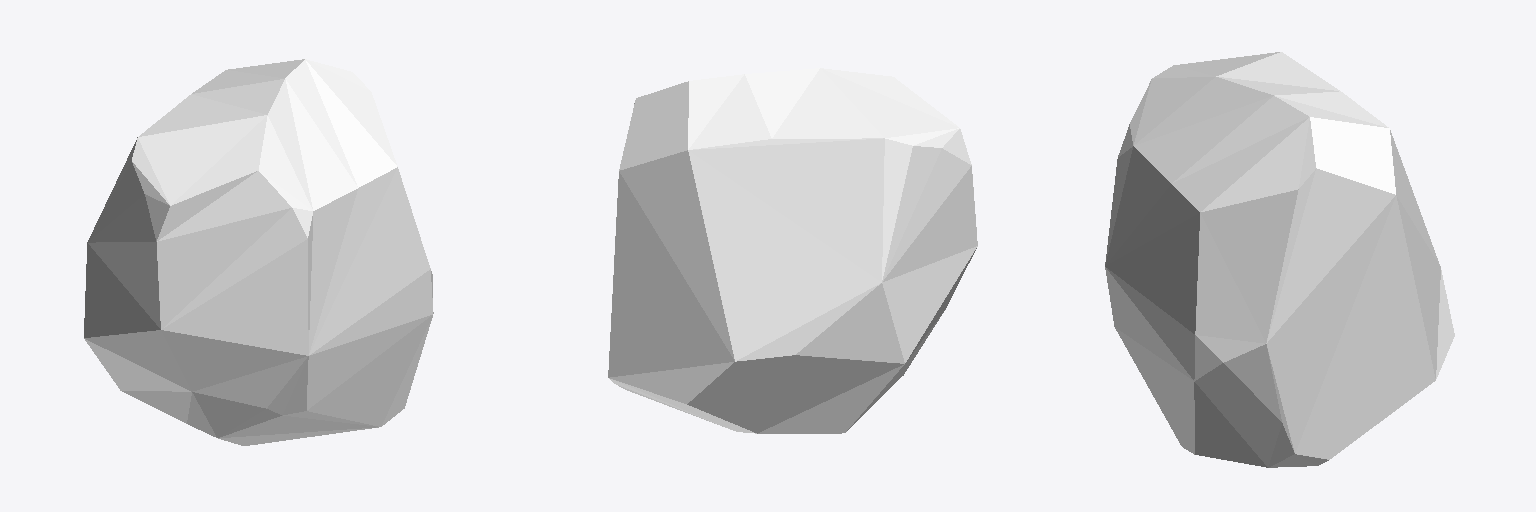
Rendered from rock_large_100.obj.
The picture shows the model from 3 angles: view 1: azimuth 30°, elevation 25°; view 2: azimuth 150°, elevation 25°; view 3: azimuth 270°, elevation 25°; orthographic projection.
Visible parts, largest first — view 1: RetopoGroup1; view 2: RetopoGroup1; view 3: RetopoGroup1.
Boxes of the visible parts, x1,y1,x2,y2 form: RetopoGroup1: [84, 59, 433, 445]; RetopoGroup1: [608, 68, 977, 433]; RetopoGroup1: [1105, 52, 1454, 467].
Bounding box in the file's own units: 1.98 × 2.12 × 1.94.